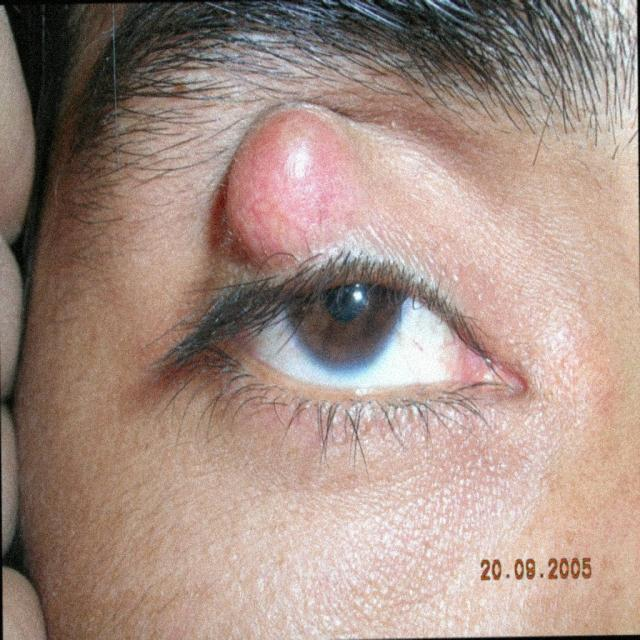Chalazion: (155, 50, 524, 483)
